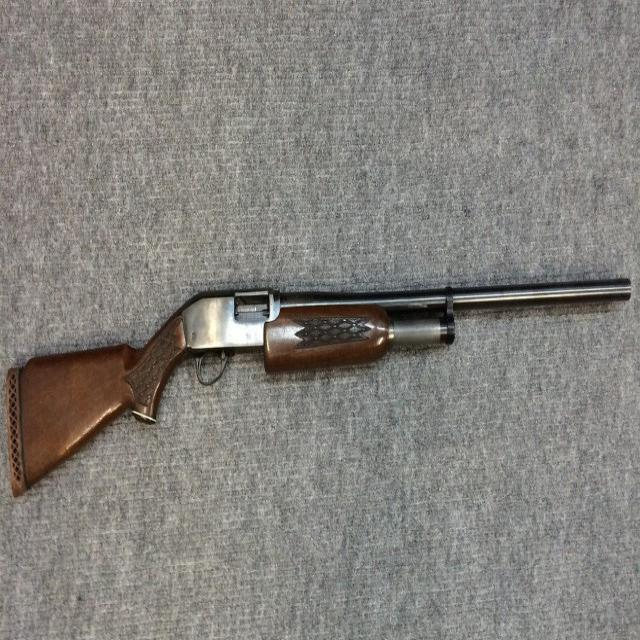ShotGun: (7, 280, 632, 497)
